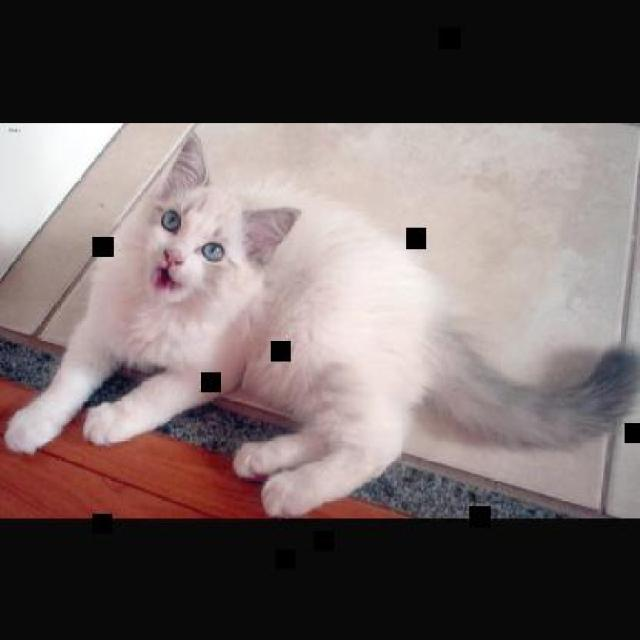unauthorized: (0, 128, 638, 517)
